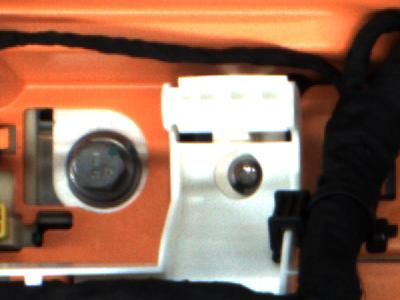nut_b: (62, 128, 142, 210)
